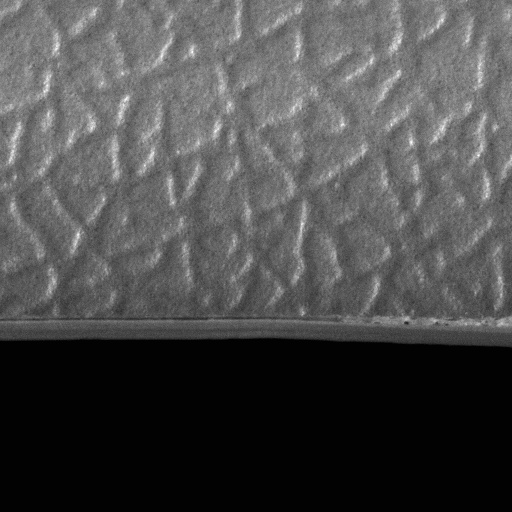kaijiao: (322, 310, 511, 352)
